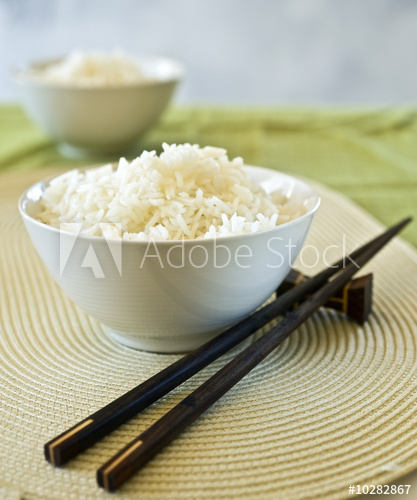plain rice: (30, 152, 315, 244)
